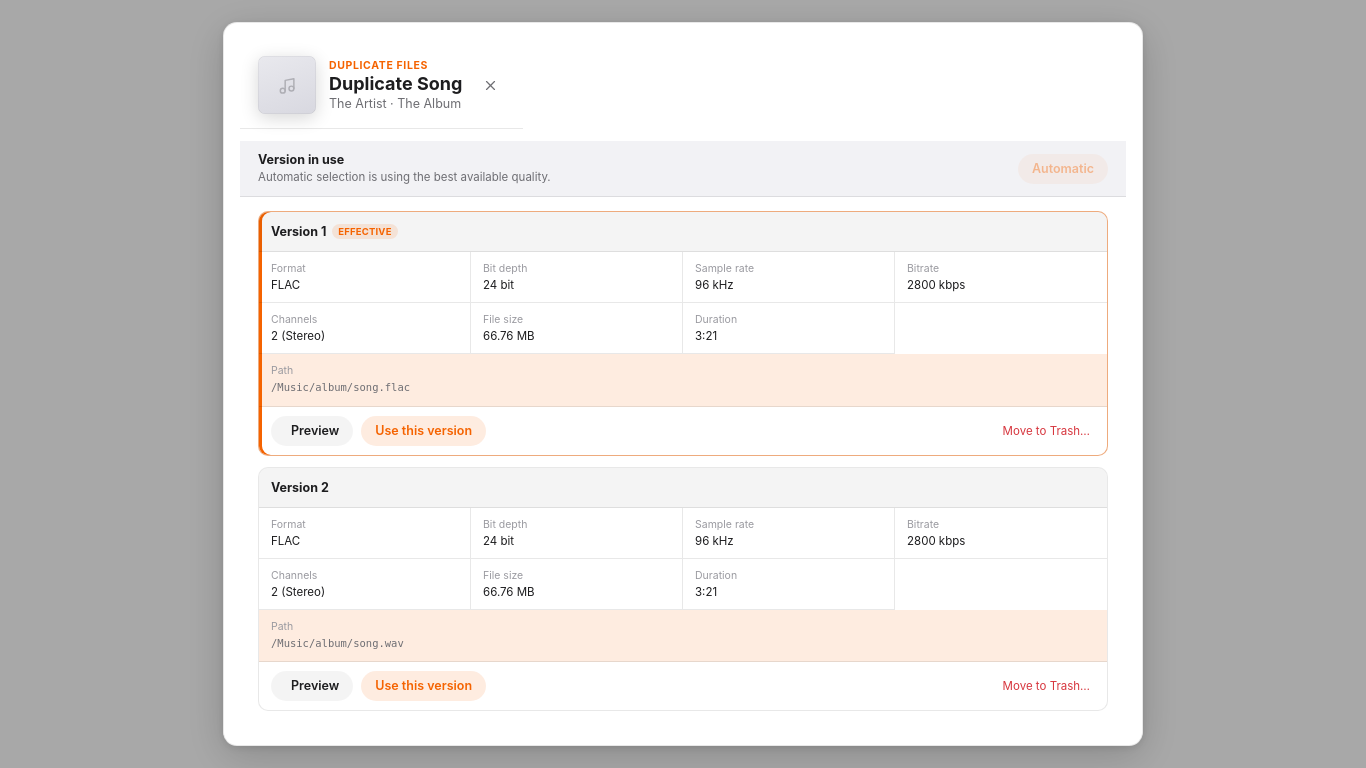
Test: duplicate files dialog › sets a preferred version and refreshes versions and the library
Click the button "Use this version" below "/Music/album/song.wav" at (424, 686), box [361,671,486,701]
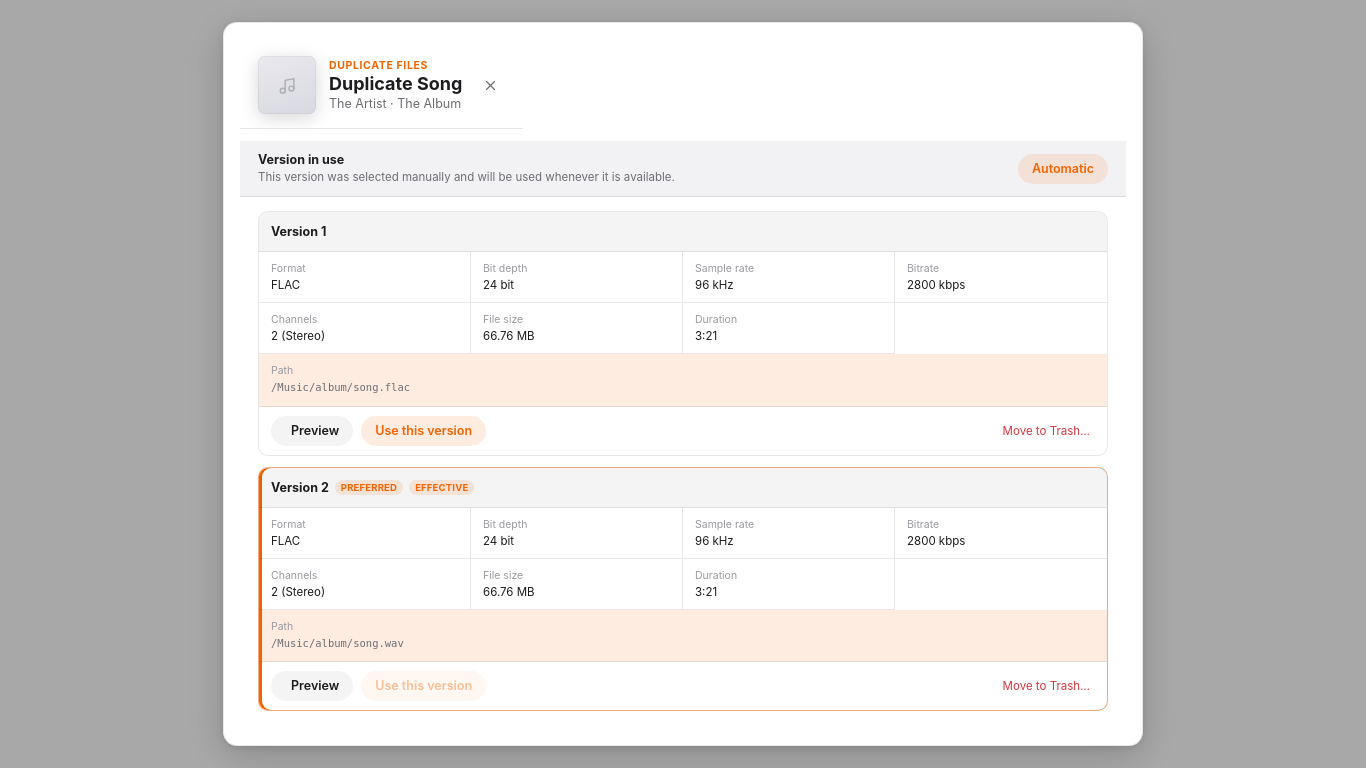
Check: the text "selected manually" is shown, box [258,170,675,184]
